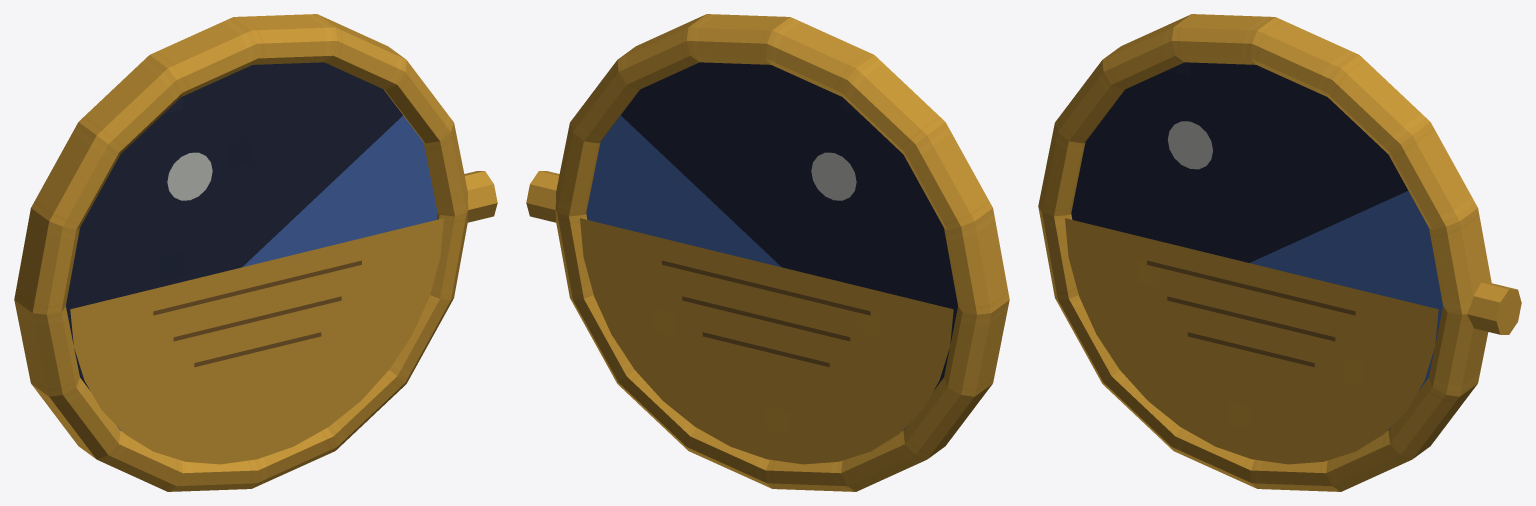
Rendered from clock_26.obj.
3 renders of one model, left to right at view 1: azimuth 30°, elevation 25°; view 2: azimuth 150°, elevation 25°; view 3: azimuth 330°, elevation 25°, orthographic.
Size of the model in its own units: 0.6363 by 0.6037 by 0.075.
